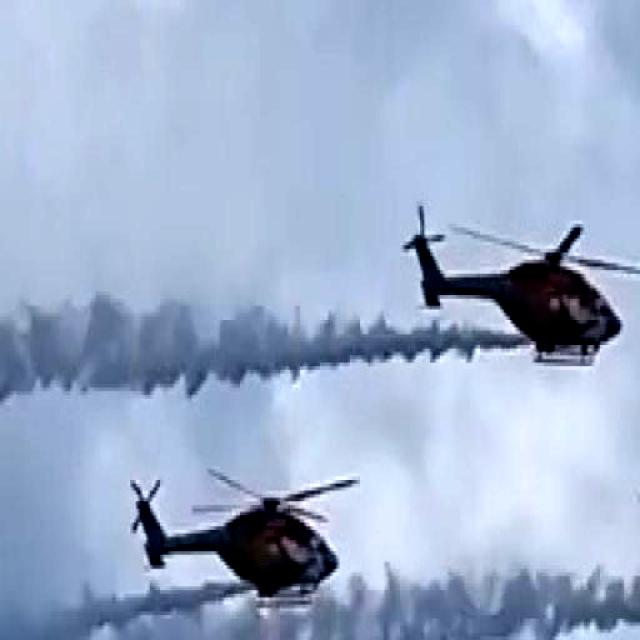drone: (409, 188, 640, 371), (124, 449, 364, 611)
